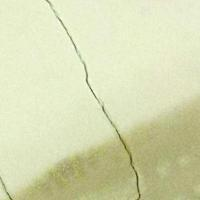crack: (45, 2, 140, 198)
